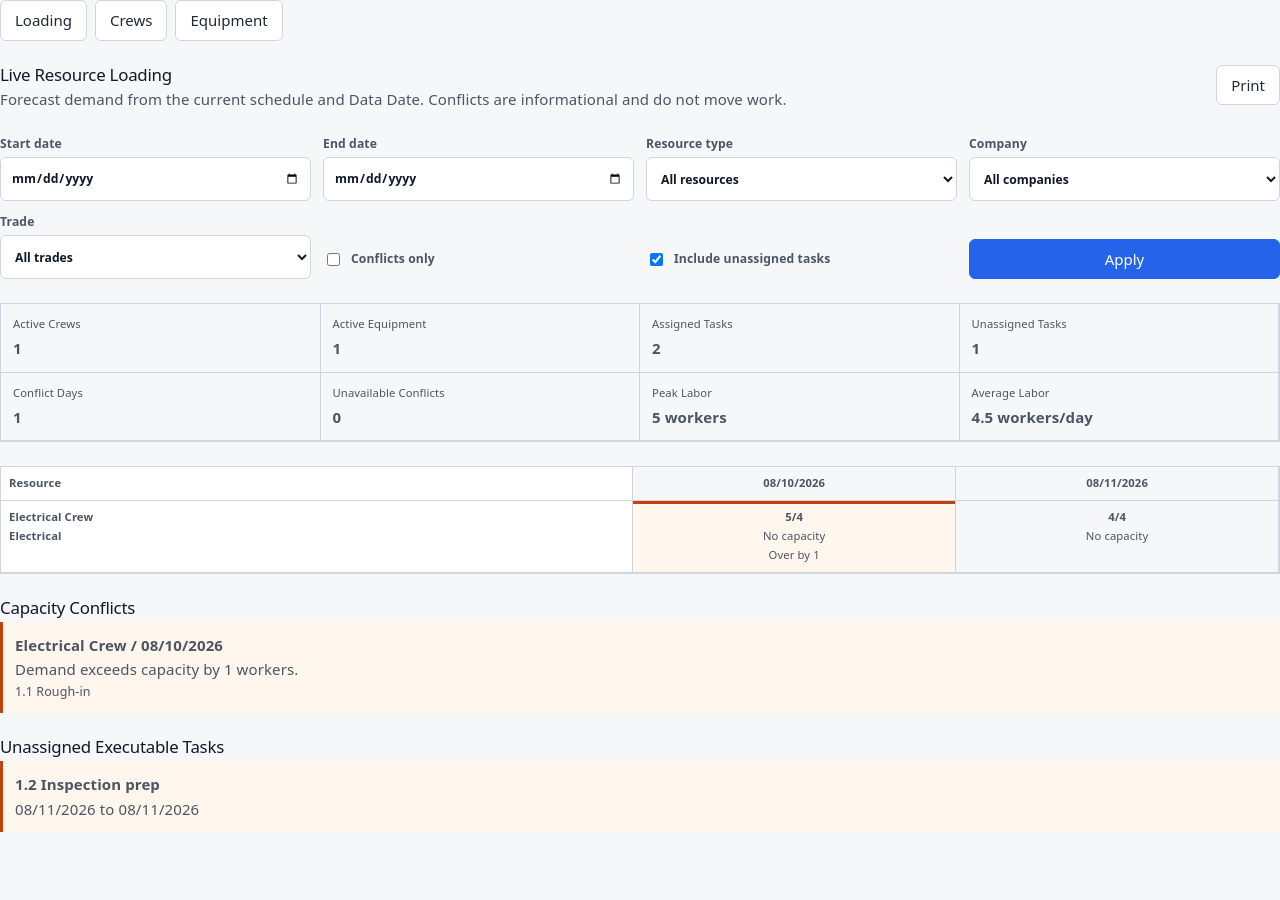
Test case: ResourceLoadingView › creates crews and opens availability from focused management
Click the button "Crews" at (131, 20), box [95,0,168,40]
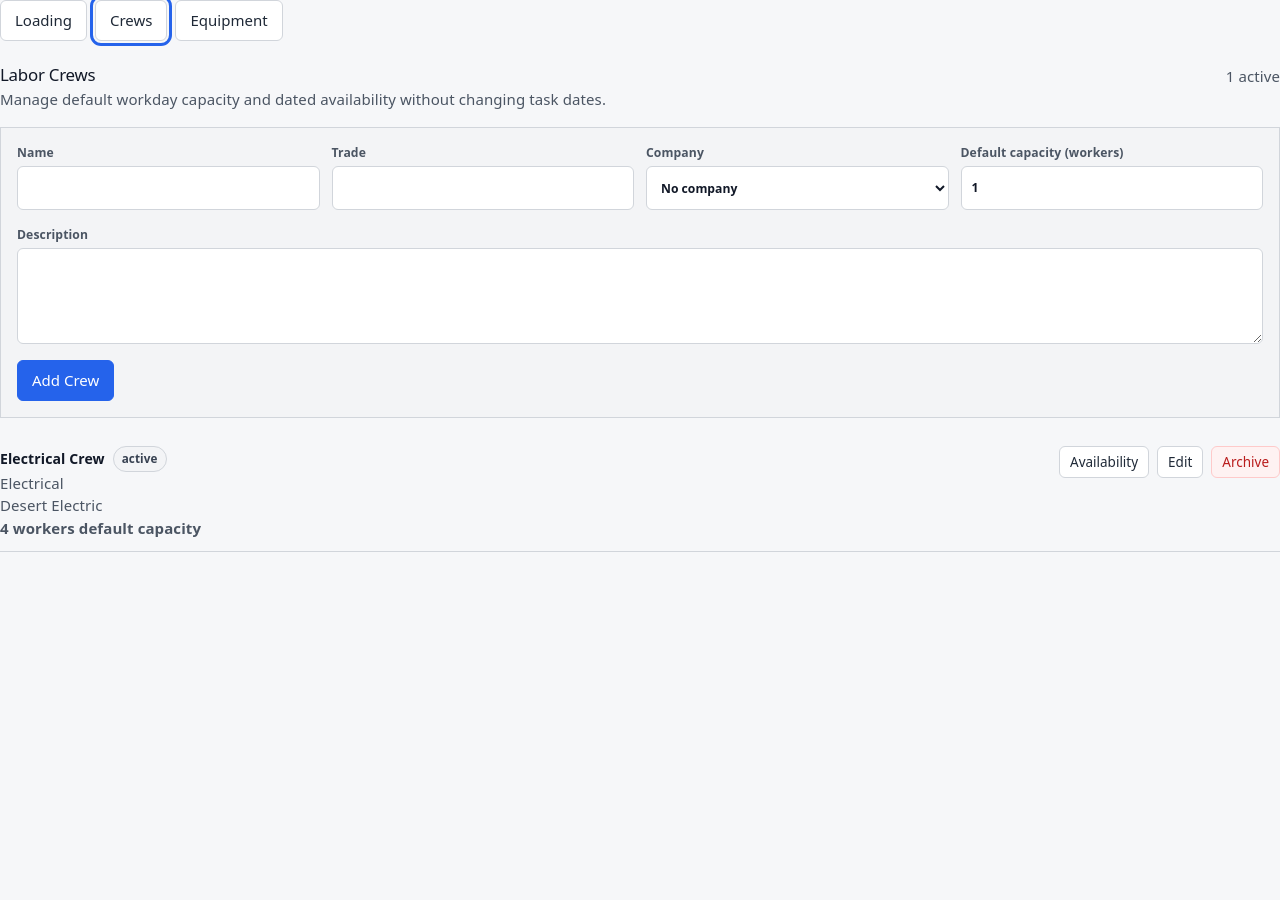
Type "Concrete Crew" into the field labelled "Name" at (168, 188), box [17,166,320,210]
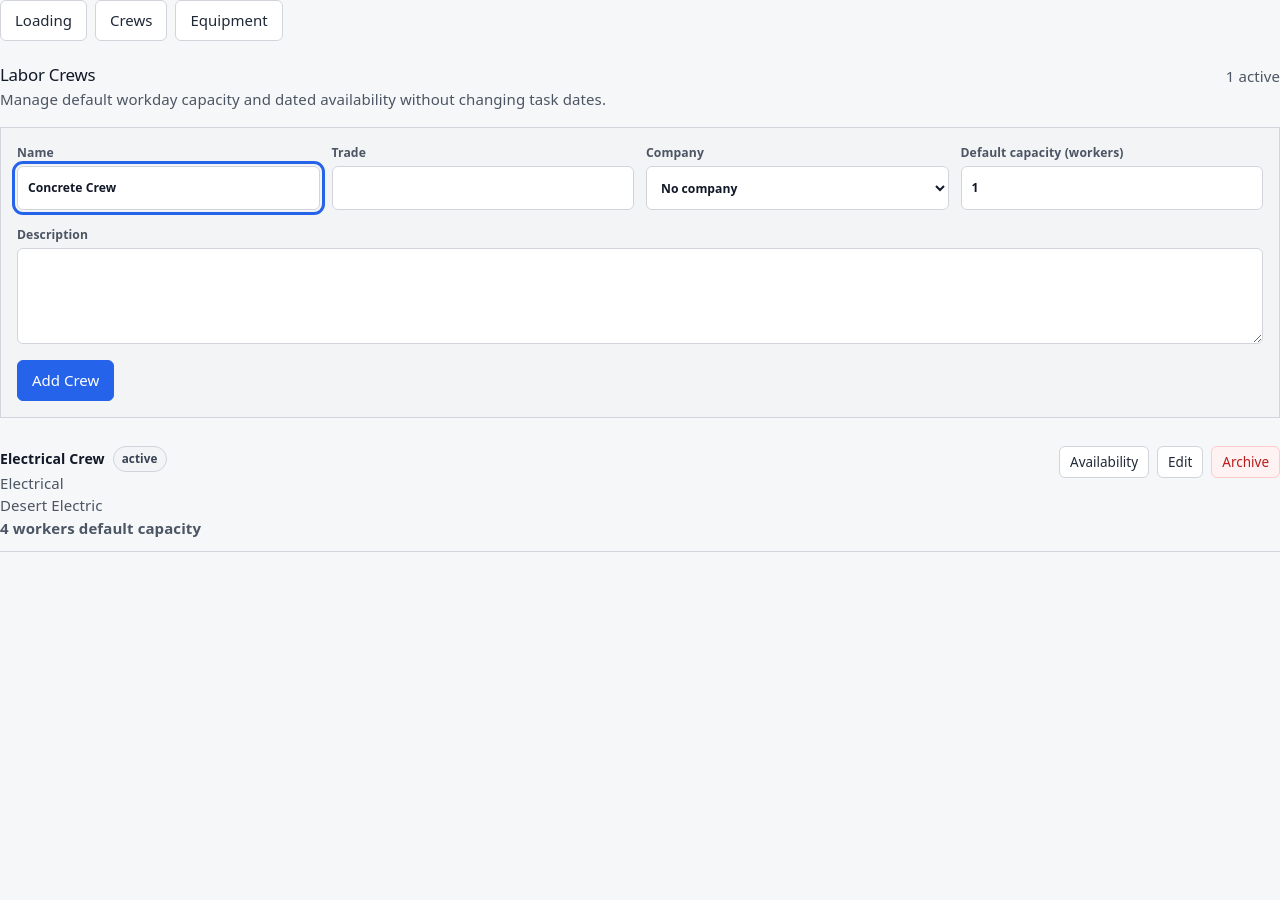
Replace the text in the number field labelled "Default capacity (workers)" with "6" at (1112, 188), box [960,166,1263,210]
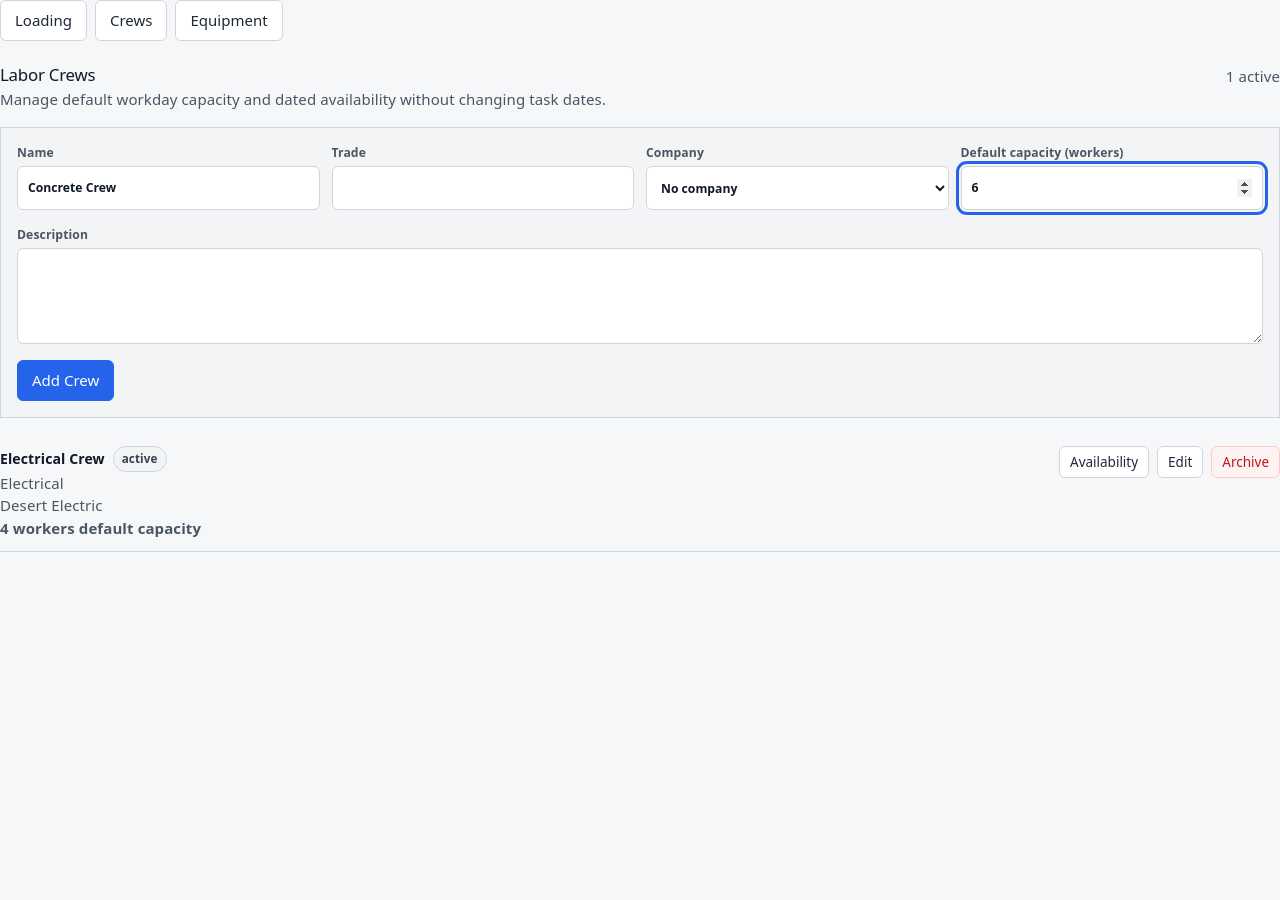
Click the button "Add Crew" at (66, 381), box [17,360,114,401]
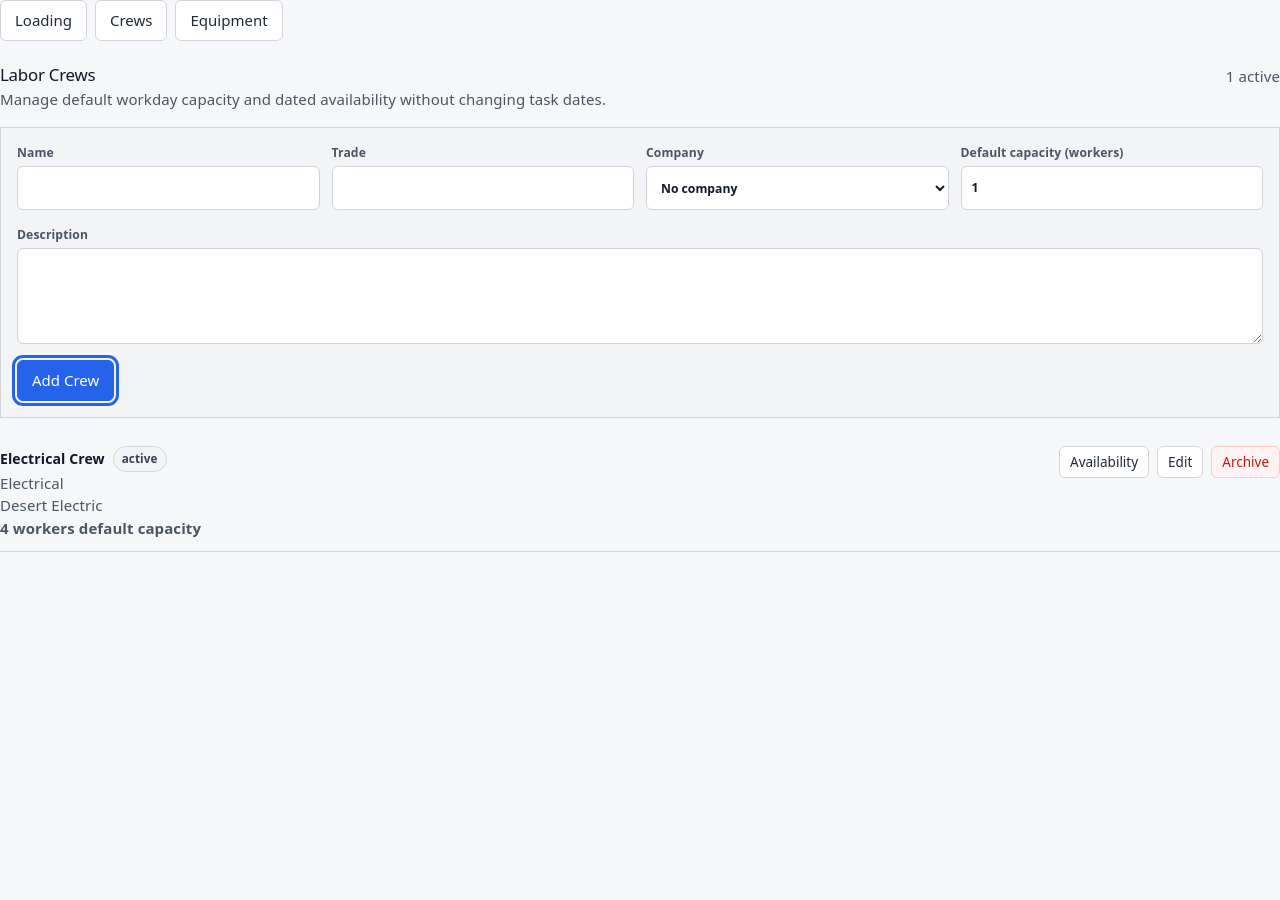
Click the button "Availability" at (1104, 462), box [1059,446,1149,478]
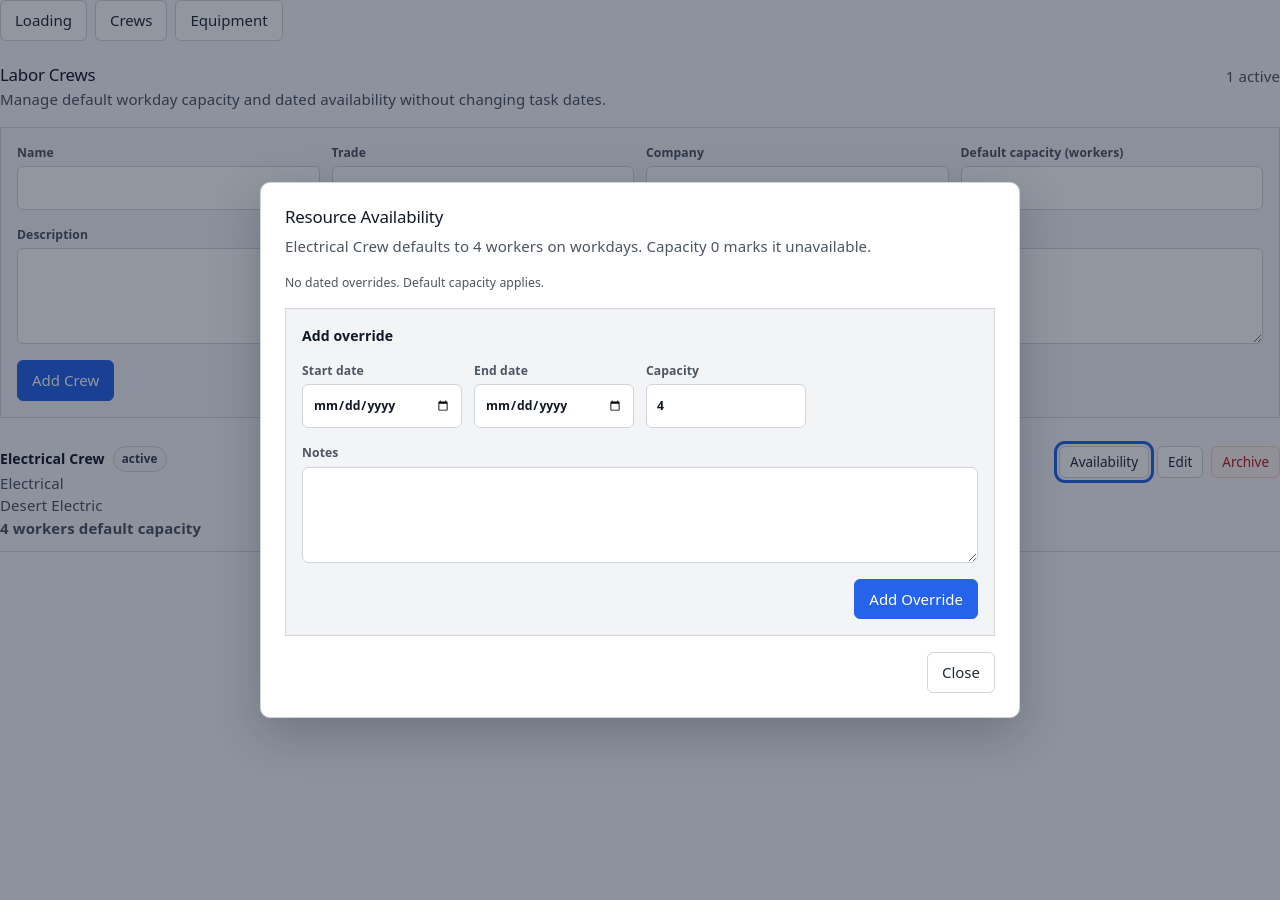
Expected: the dialog "Resource Availability" is shown, [260,182,1020,718]
